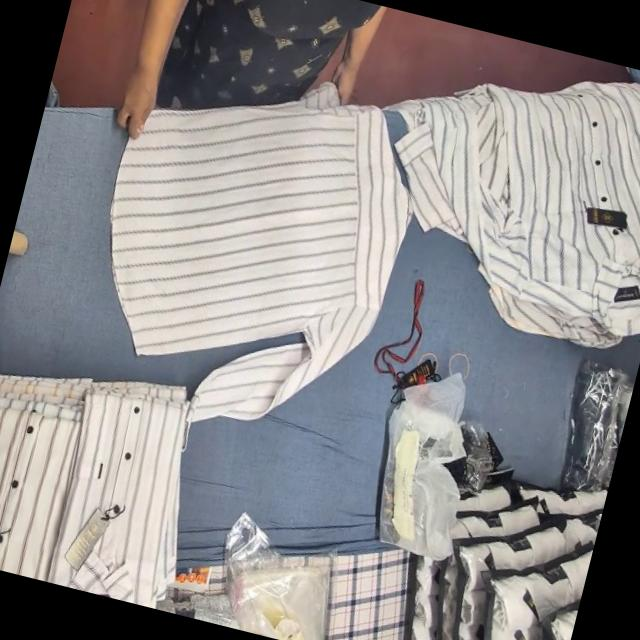new-garment: (110, 86, 410, 420)
